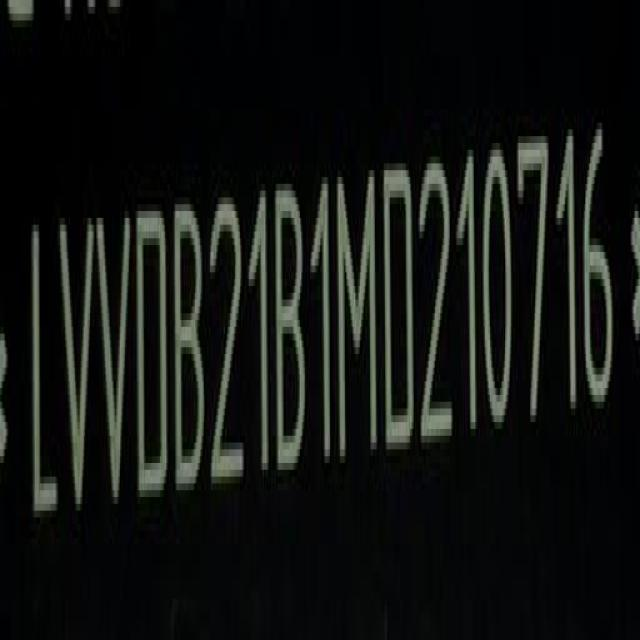0: (483, 146, 515, 444)
1: (310, 170, 334, 478), (555, 124, 576, 432), (252, 190, 273, 492), (460, 150, 480, 448)
2: (420, 152, 456, 459), (211, 197, 246, 500)
6: (585, 116, 618, 418)
7: (521, 124, 552, 433)
B: (176, 198, 209, 502), (278, 180, 307, 486)
D: (386, 160, 421, 468), (134, 200, 168, 510)
L: (26, 214, 57, 537)
M: (339, 161, 380, 471)
V: (97, 208, 135, 521), (59, 213, 94, 529)
